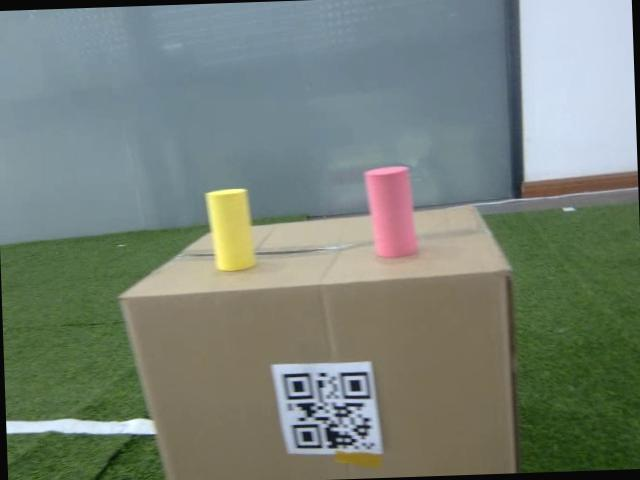red_cylinder: (364, 165, 418, 259)
yellow_cylinder: (205, 188, 256, 272)
